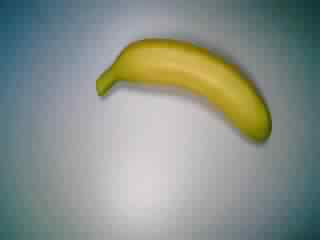banana: (97, 35, 275, 145)
